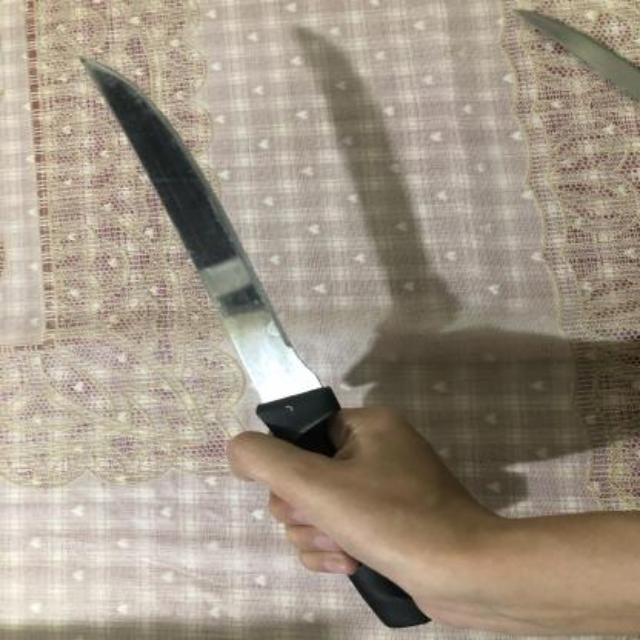Knife: (79, 58, 432, 630)
